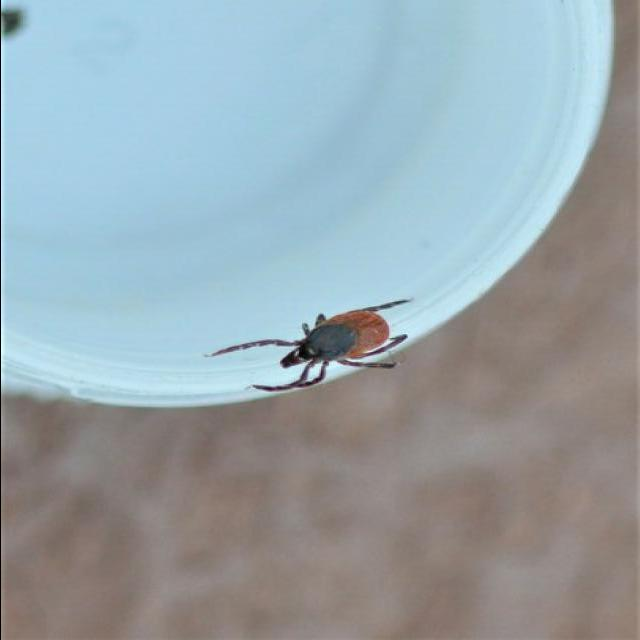Ixodes Ricinus-F: (202, 300, 411, 397)
